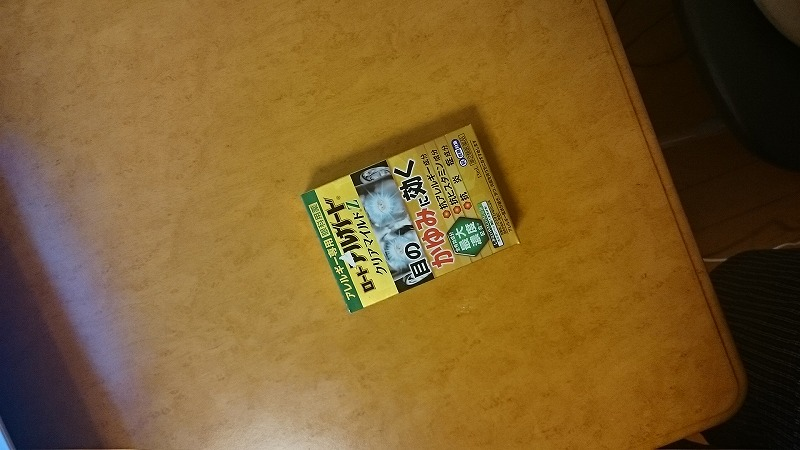C: (297, 115, 531, 318)
